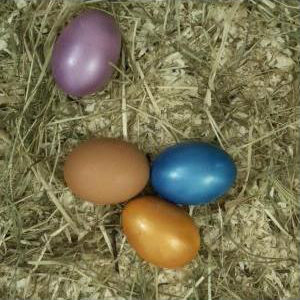egg: (120, 195, 201, 269), (52, 10, 120, 95), (63, 139, 150, 203), (150, 142, 237, 204)
